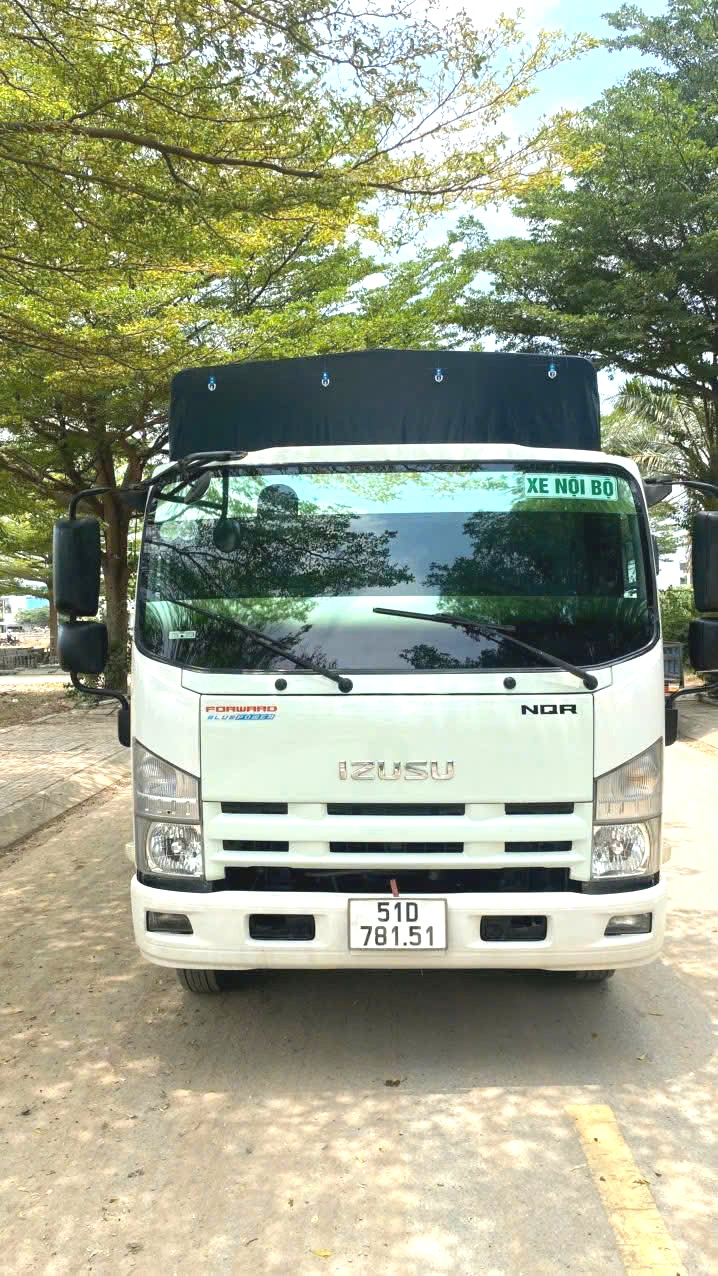Bien-so: (351, 913, 466, 981)
